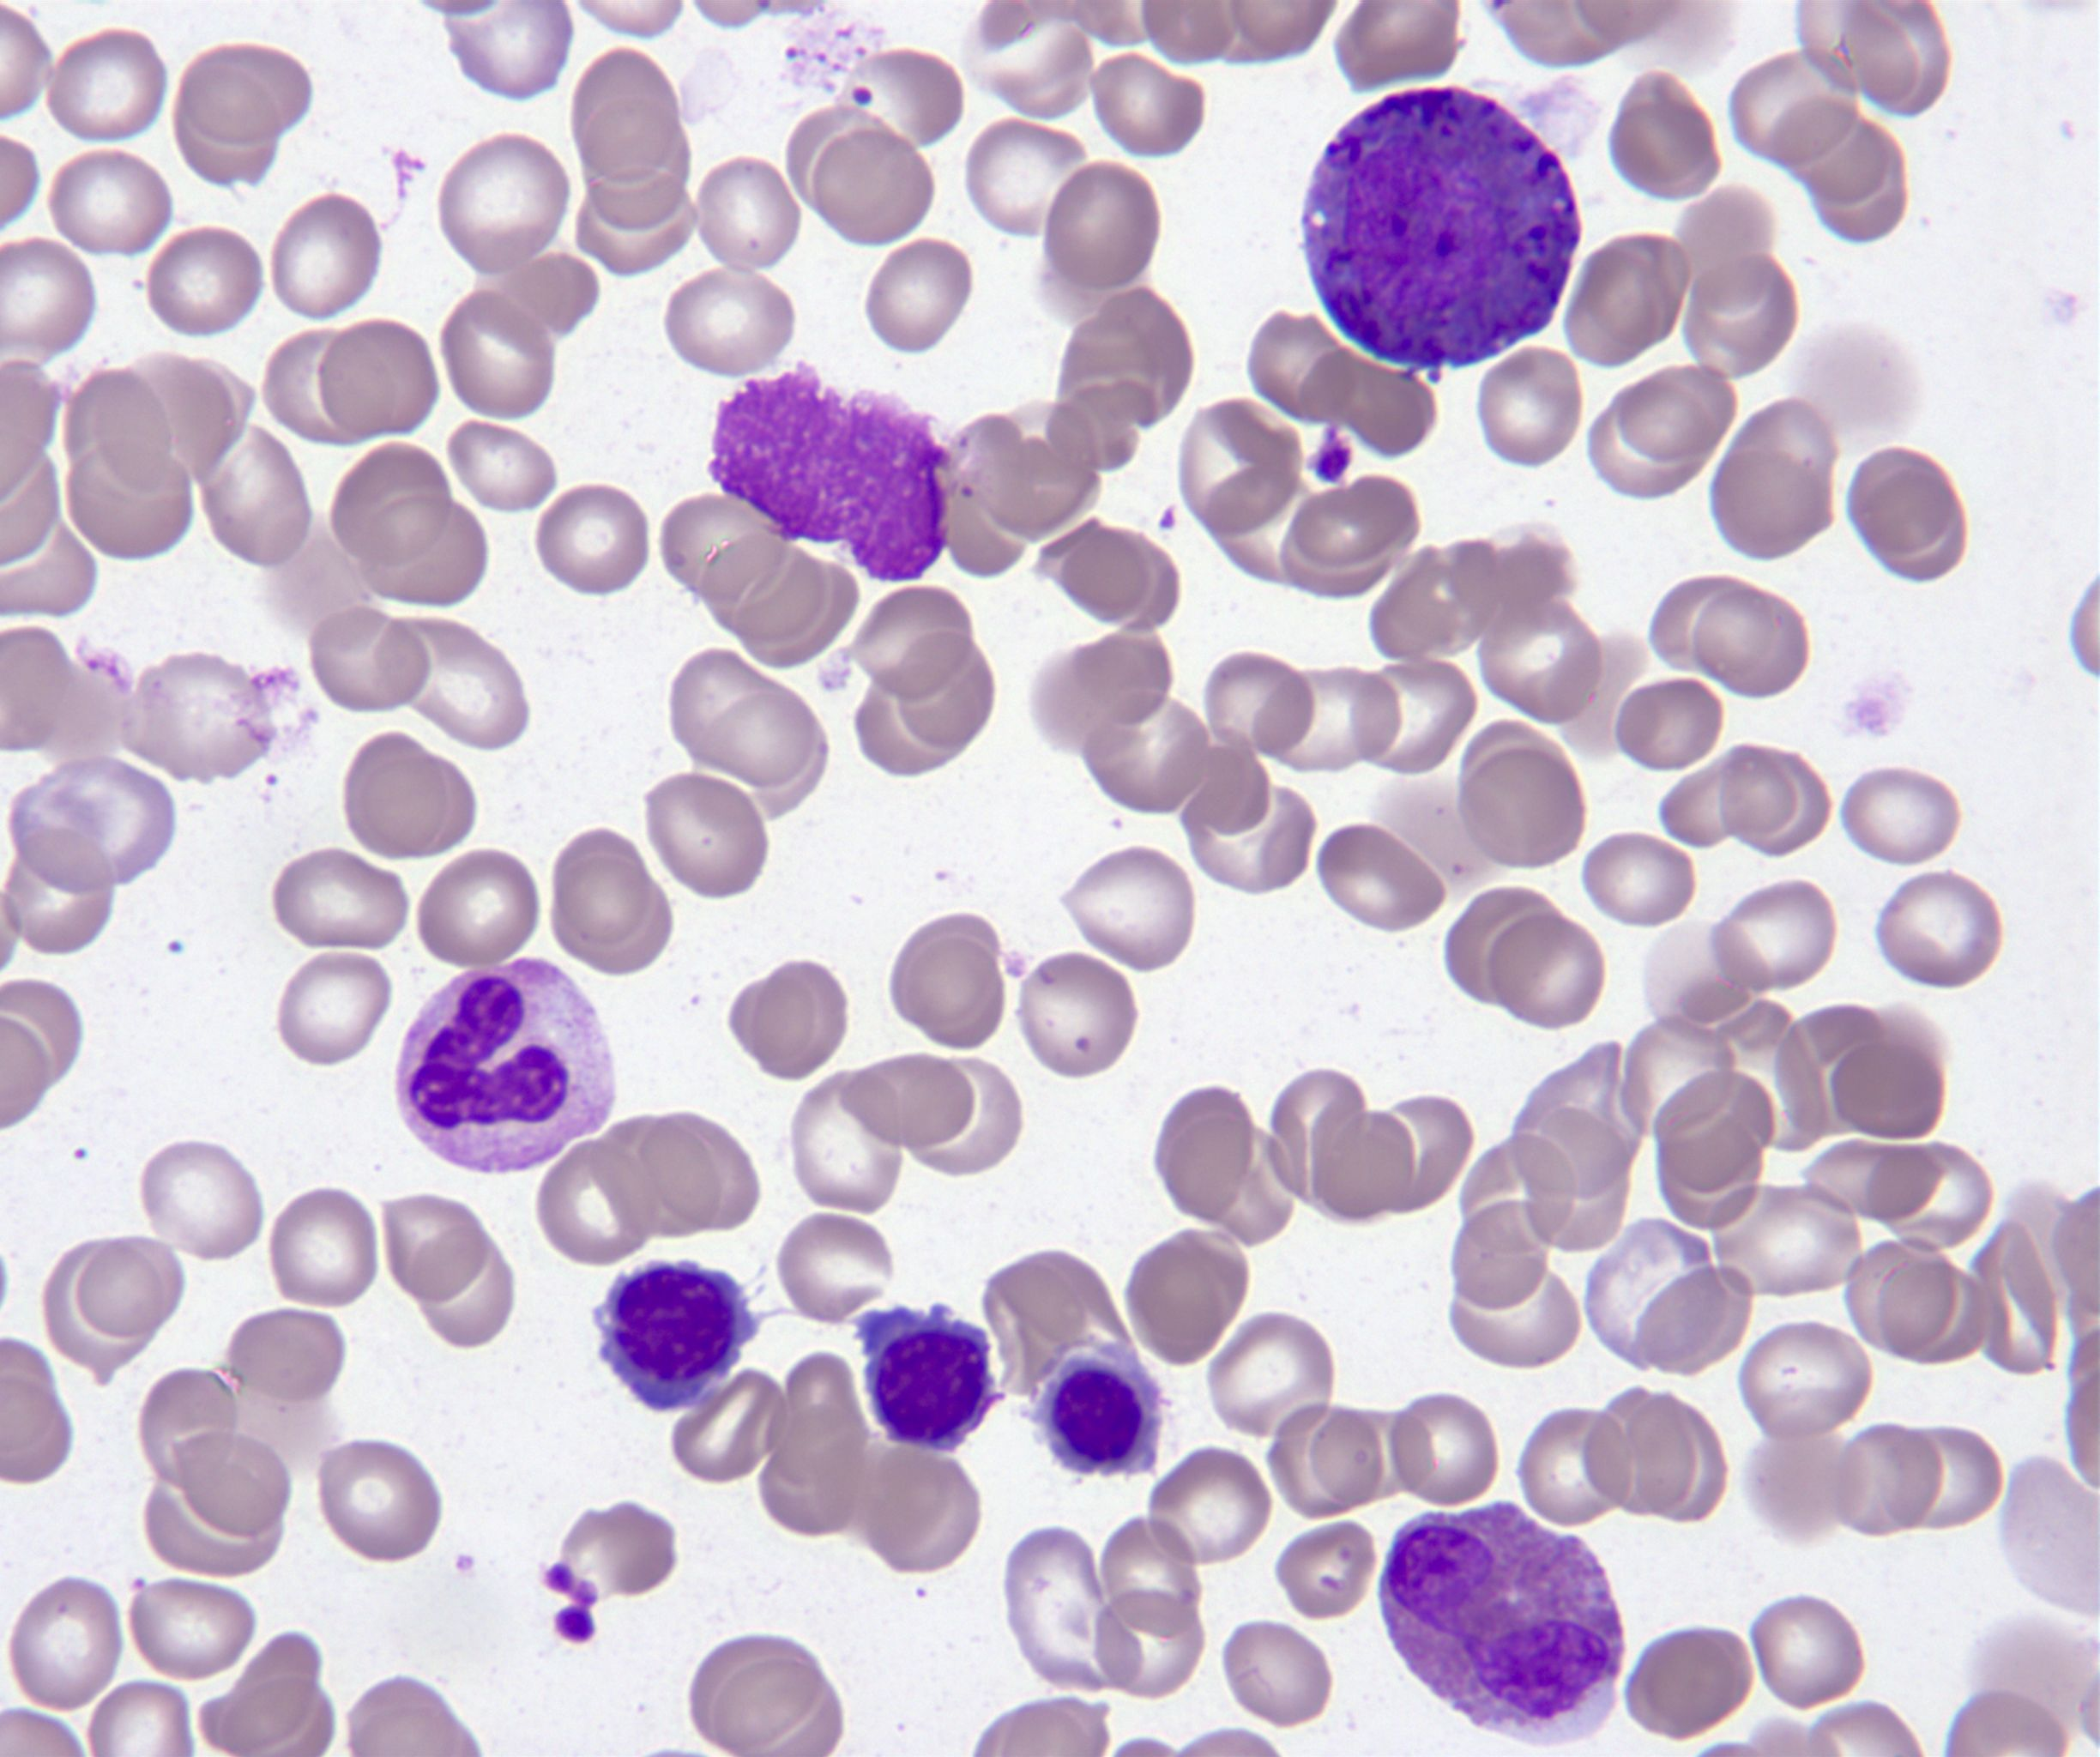23: (593, 1260, 766, 1410), (851, 1307, 1005, 1448)
24: (1031, 1343, 1165, 1478)
5: (394, 960, 617, 1174)
E2: (1306, 87, 1578, 368)
E4: (1380, 1502, 1627, 1748)
x: (710, 361, 952, 581)
